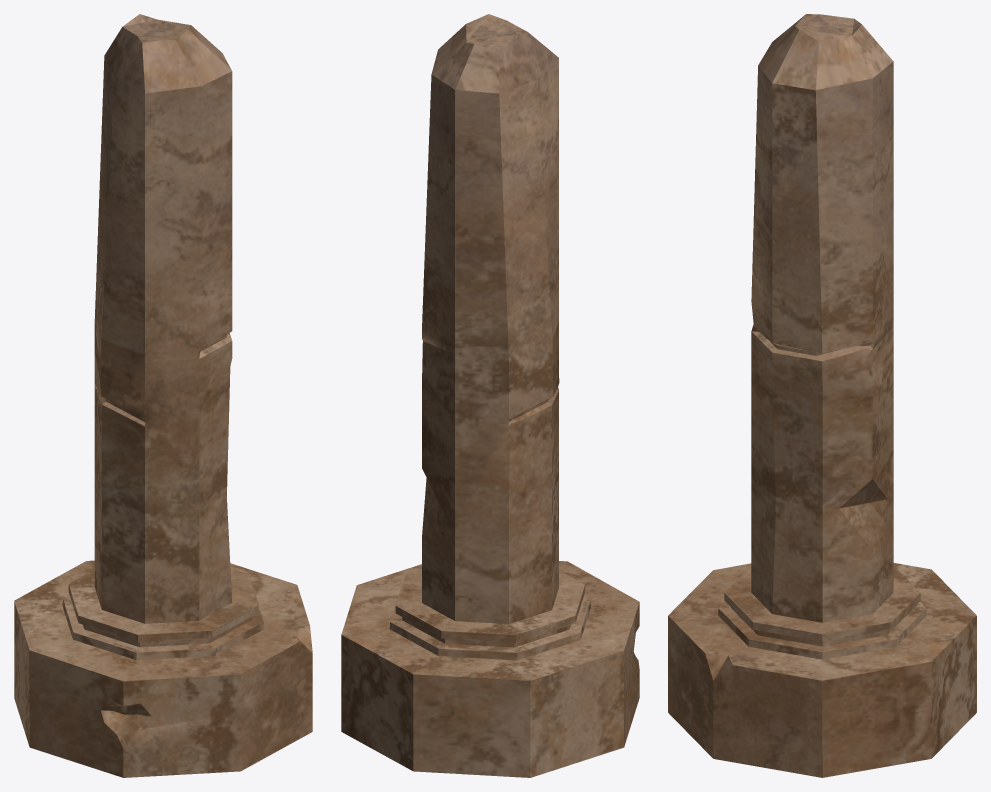
Rendered from Broken Pillar 1.fbx.
The picture shows the model from 3 angles, left to right: view 1: azimuth 30°, elevation 25°; view 2: azimuth 150°, elevation 25°; view 3: azimuth 270°, elevation 25°; orthographic projection.
Visible parts, largest first — view 1: Cylinder; view 2: Cylinder; view 3: Cylinder.
Part boxes in pixels (x1,y1,x2,y2): Cylinder: (14, 14, 312, 777); Cylinder: (341, 14, 639, 777); Cylinder: (668, 14, 976, 777).
Size of the model in its own units: 281 by 693 by 281.
1 material, 1 textured.
